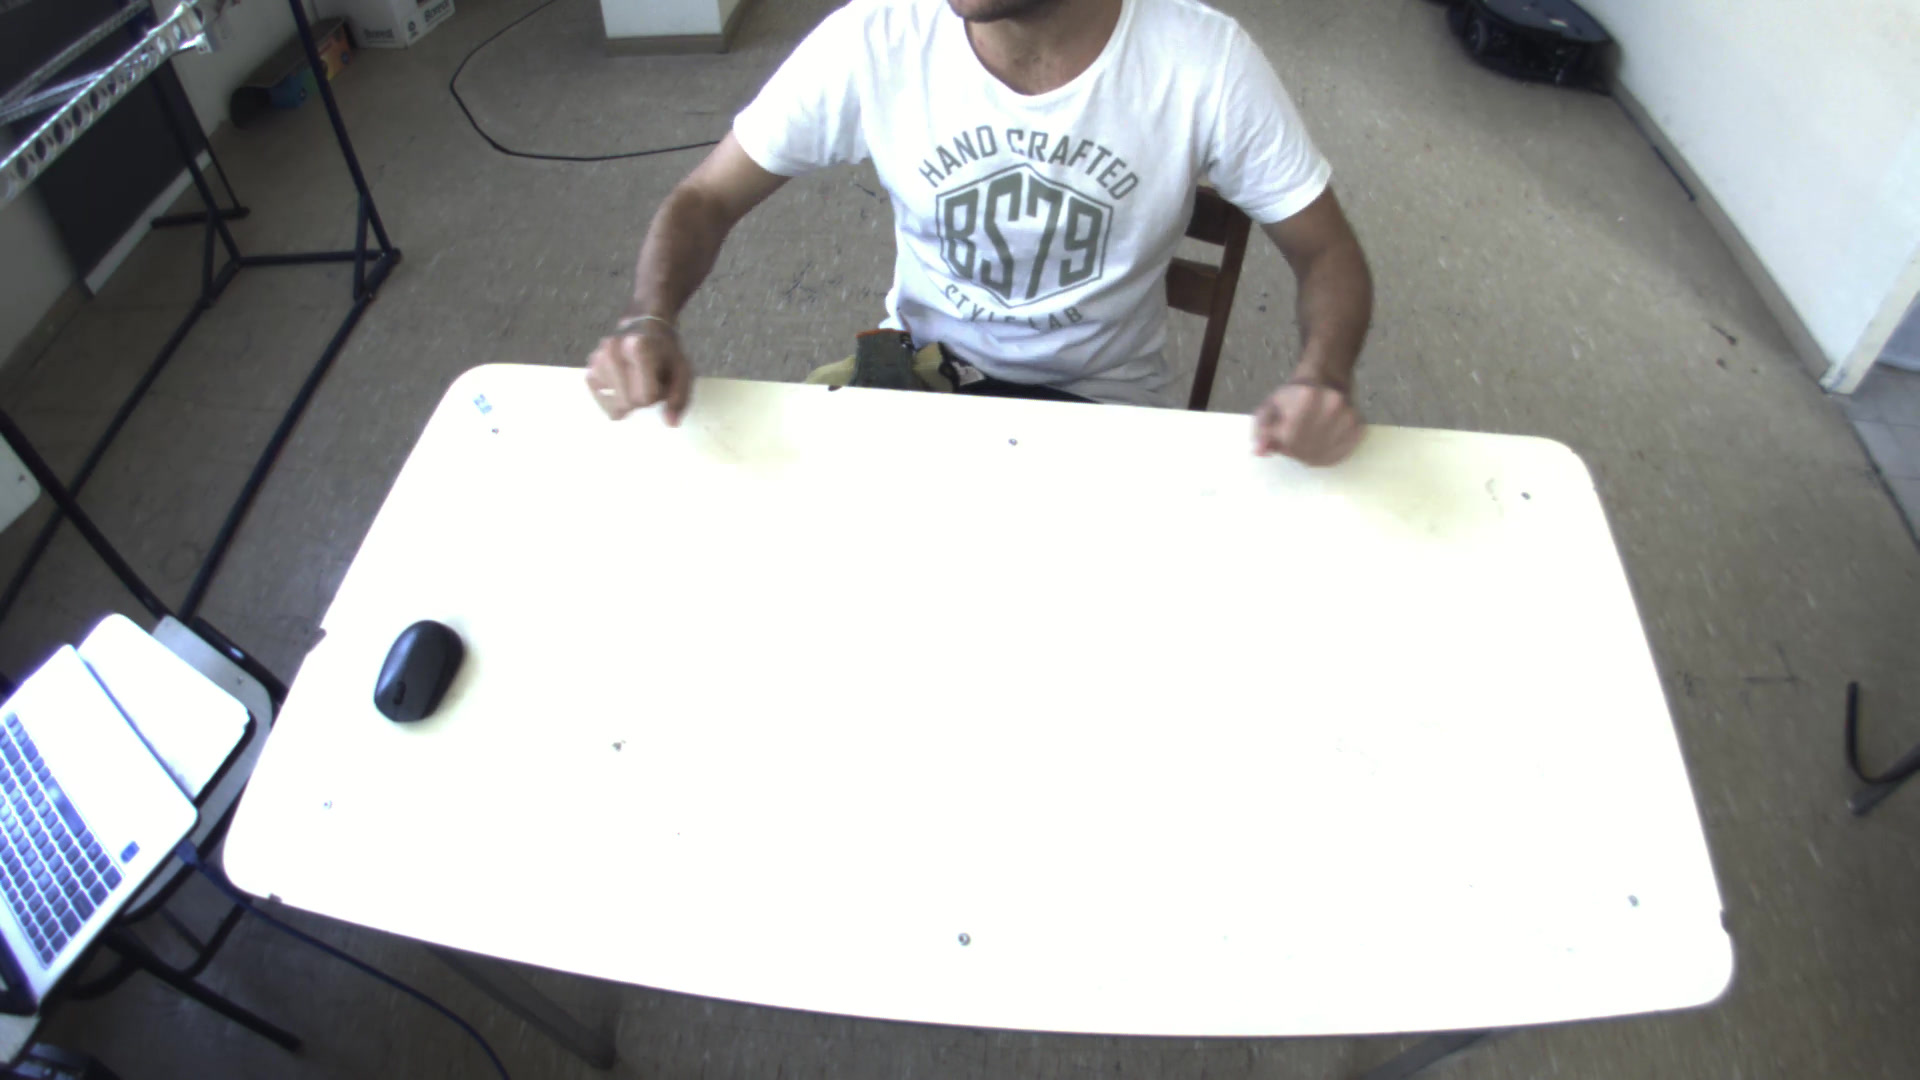hand: (570, 303, 699, 422), (1241, 357, 1377, 467)
